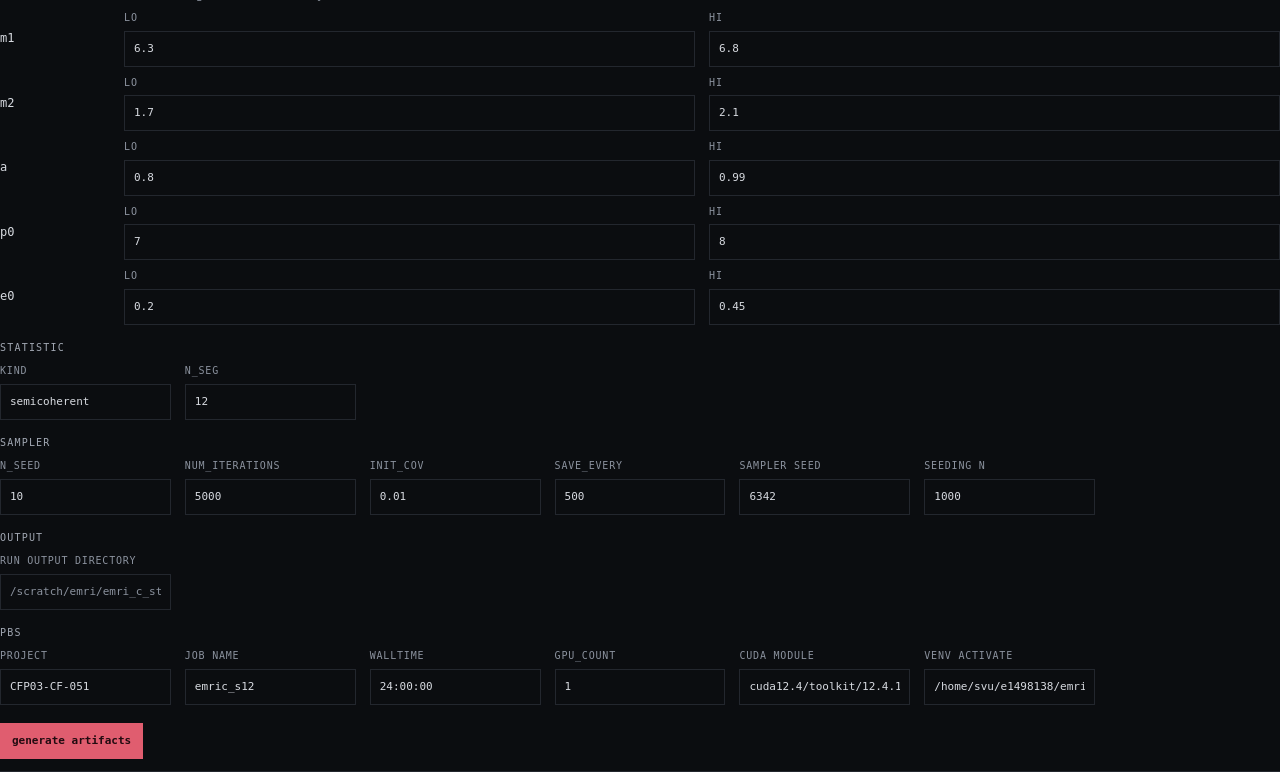
Scenario: ConfigBuilder › saves with an explicit artifact directory and overwrite opt-in
(page scrolled)
Click the button "generate artifacts" at (72, 741), box top-left (0, 723), bottom-right (143, 759)
(page scrolled)
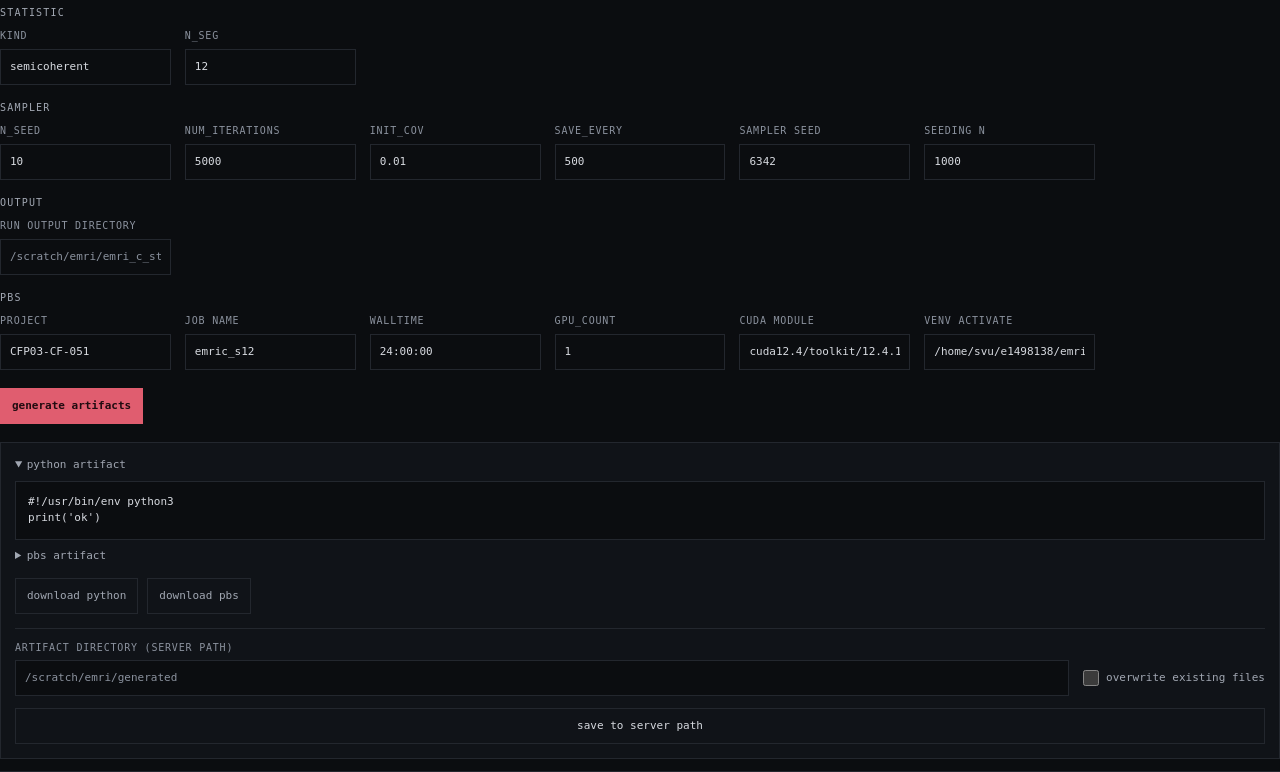
Expected: the text "#!/usr/bin/env python3 print('ok')" is shown, top-left (15, 481), bottom-right (1265, 540)
Type "/srv/artifacts" into the field labelled "artifact directory (server path)" at (542, 678), box top-left (15, 660), bottom-right (1069, 696)
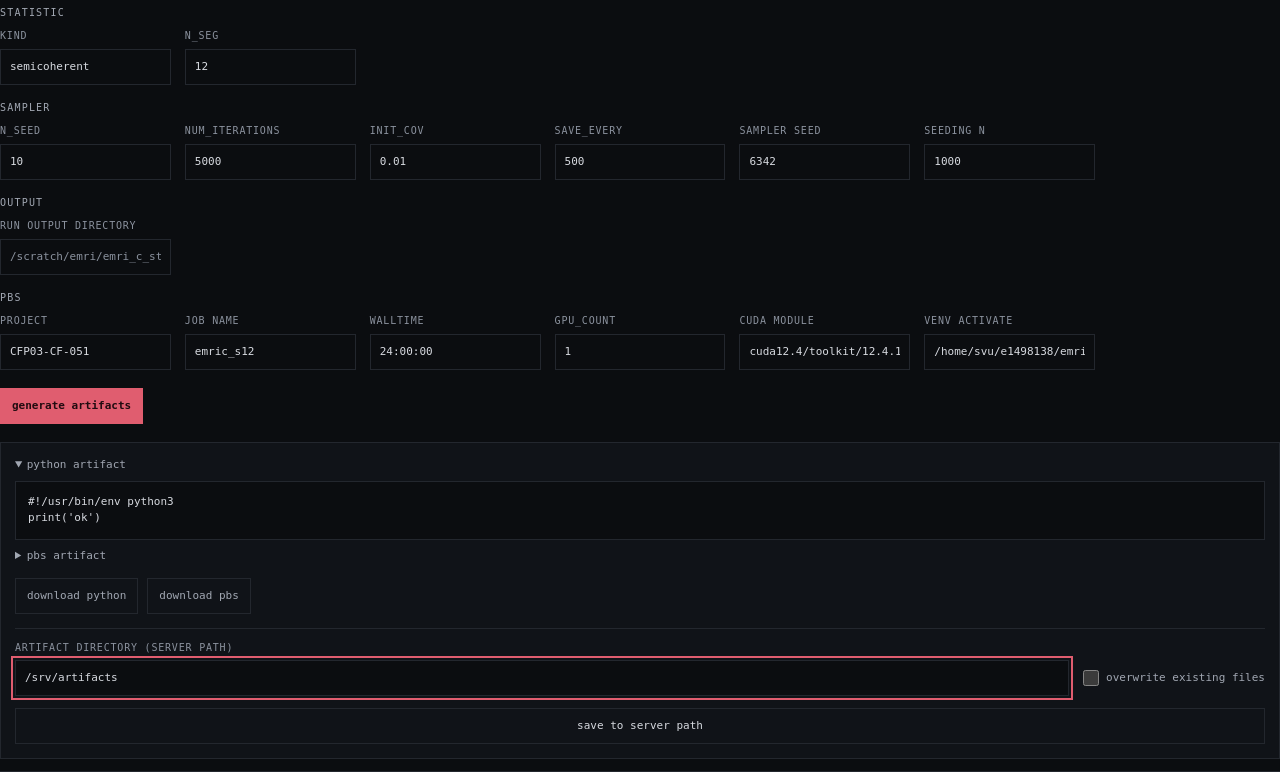
Click the button "save to server path" at (640, 726), box top-left (15, 708), bottom-right (1265, 744)
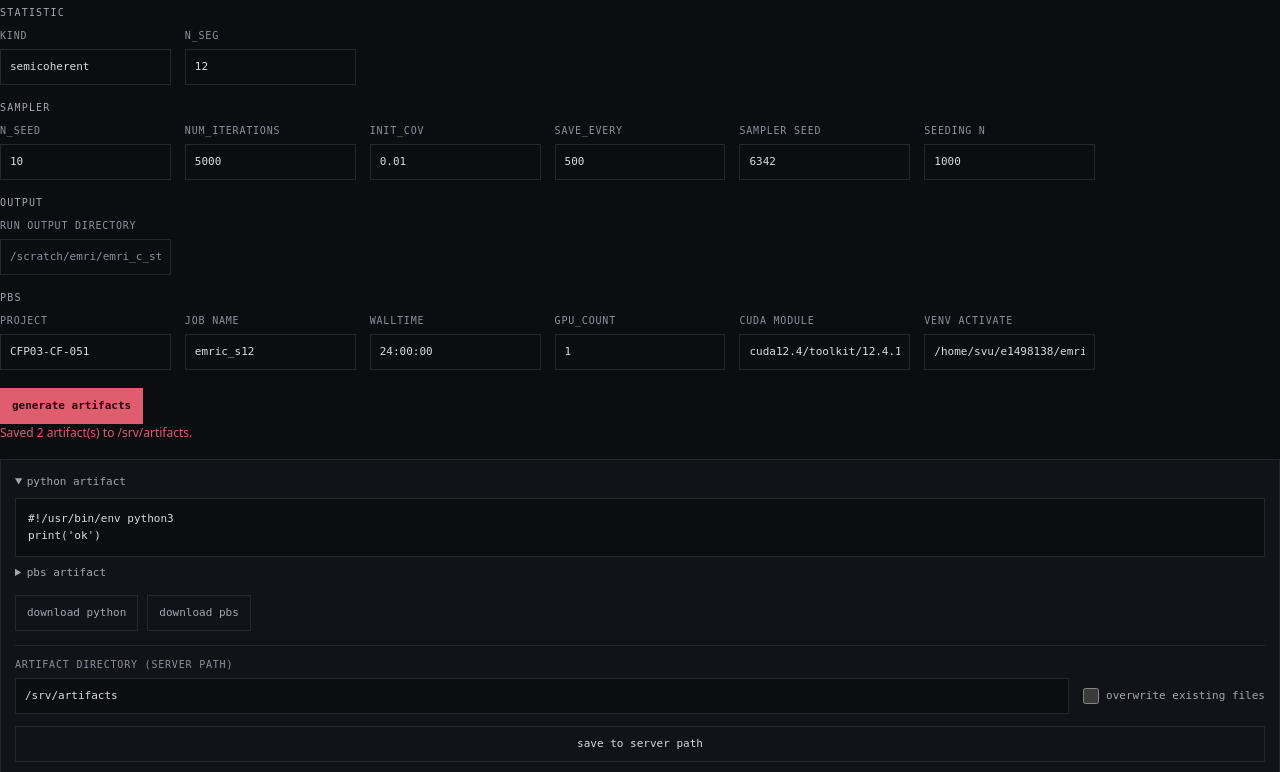
Expected: the text "Saved 2 artifact(s) to /srv/artifacts." is shown, top-left (0, 424), bottom-right (192, 441)
